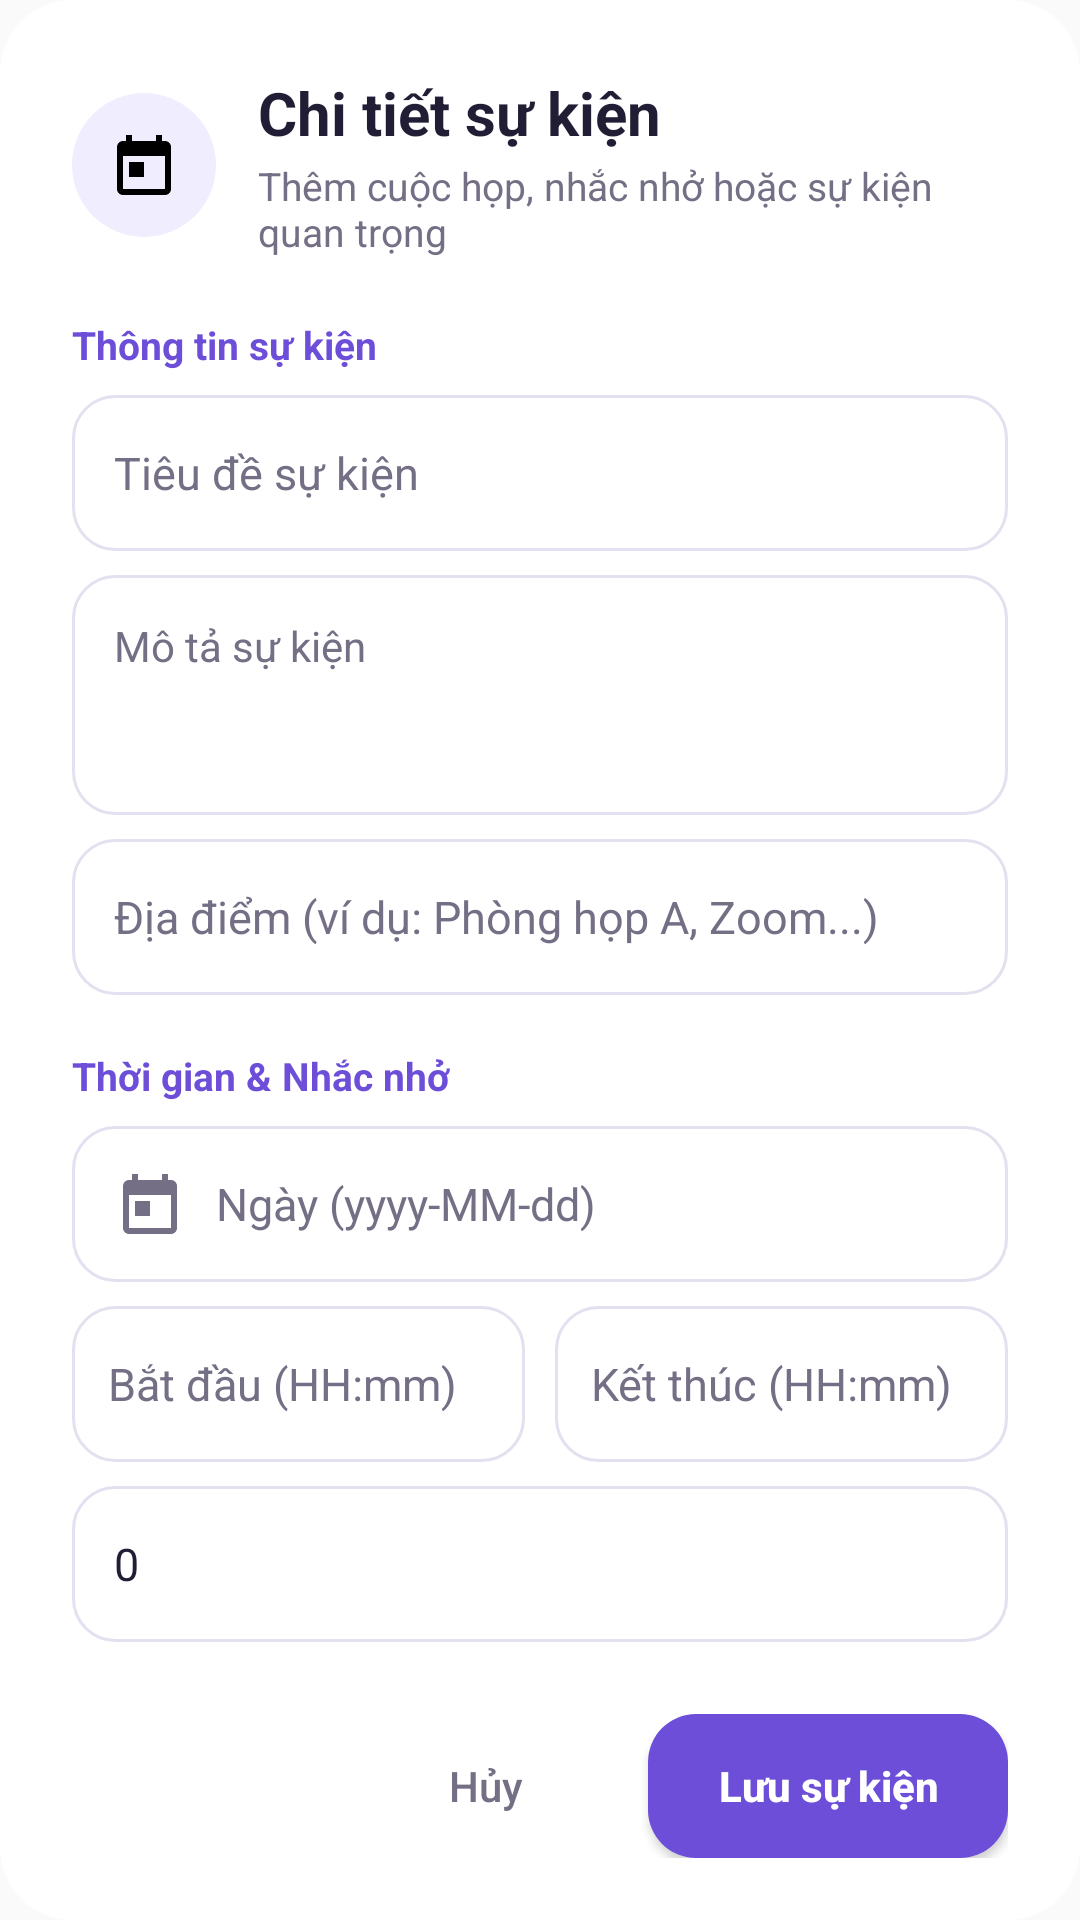

Where icons sit on this 1080px×1920px app screen, as (x1, y1, x2, y2):
calendar: (117, 135, 171, 195)
